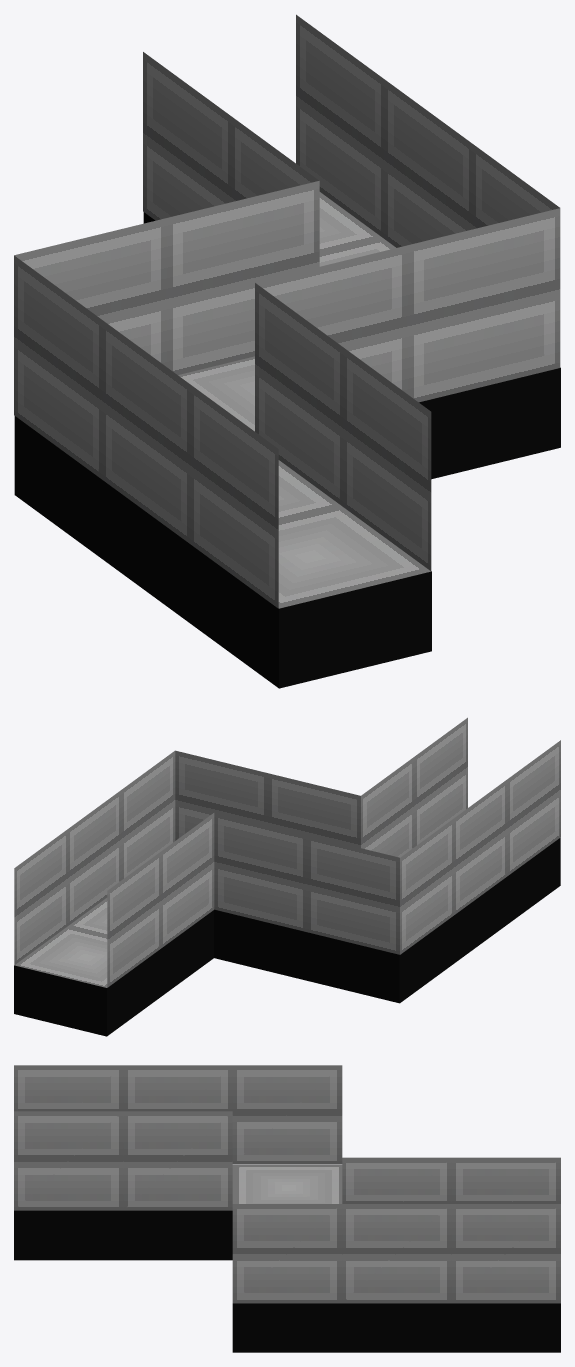
The model's file is Sbend.gltf.
The picture shows the model from 3 angles, top to bottom: view 1: azimuth 30°, elevation 25°; view 2: azimuth 150°, elevation 25°; view 3: azimuth 270°, elevation 25°; orthographic projection. The views are drawn at different scales.
Visible parts, largest first — view 1: Sbend; view 2: Sbend; view 3: Sbend.
Part boxes in pixels (x1=…): Sbend: x1=14, y1=14, x2=560, y2=688; Sbend: x1=14, y1=717, x2=560, y2=1036; Sbend: x1=14, y1=1065, x2=560, y2=1352.
Bounding box in the file's own units: 6.01 × 3 × 10.
2 materials, 1 textured.
